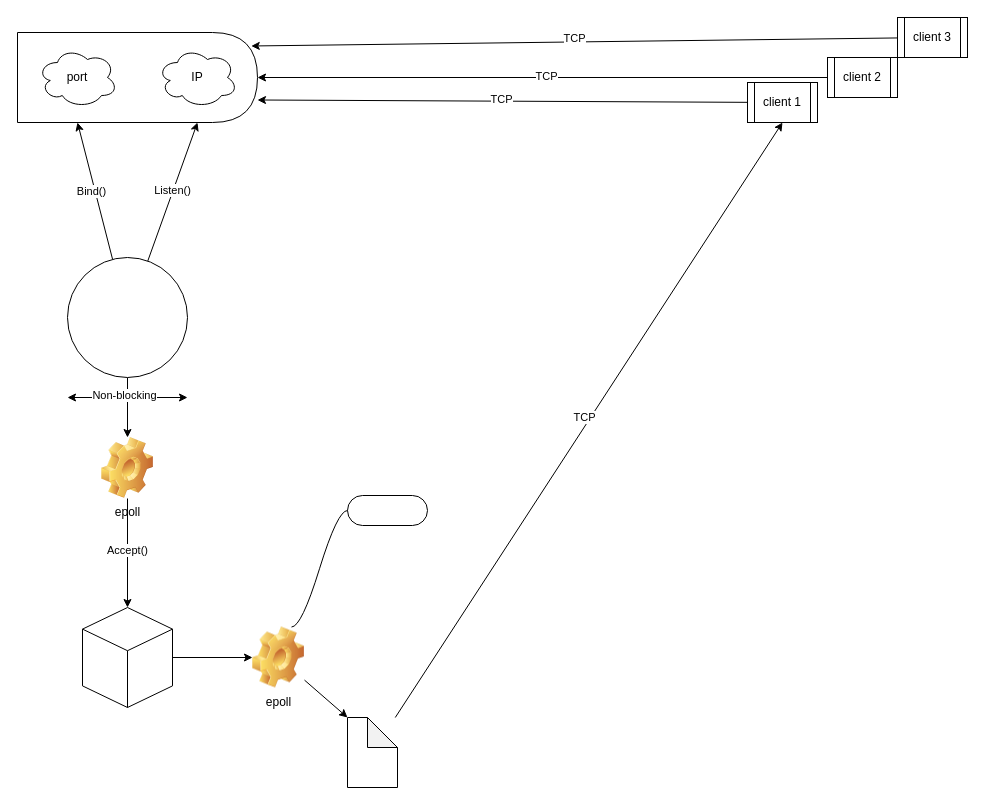
Image size: 985x805. Some labels were removed from this diagram. Here are the shapes that lost their labels. From the top down, the centre of each, then its label:
point (127, 317): socket kernel
point (387, 510): read()
point (127, 657): client 1 client 2 client 3
point (372, 752): write()
